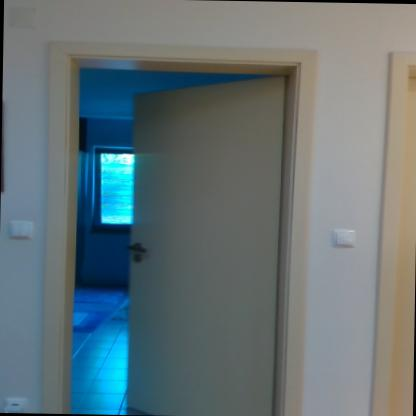semi: (44, 27, 323, 415)
